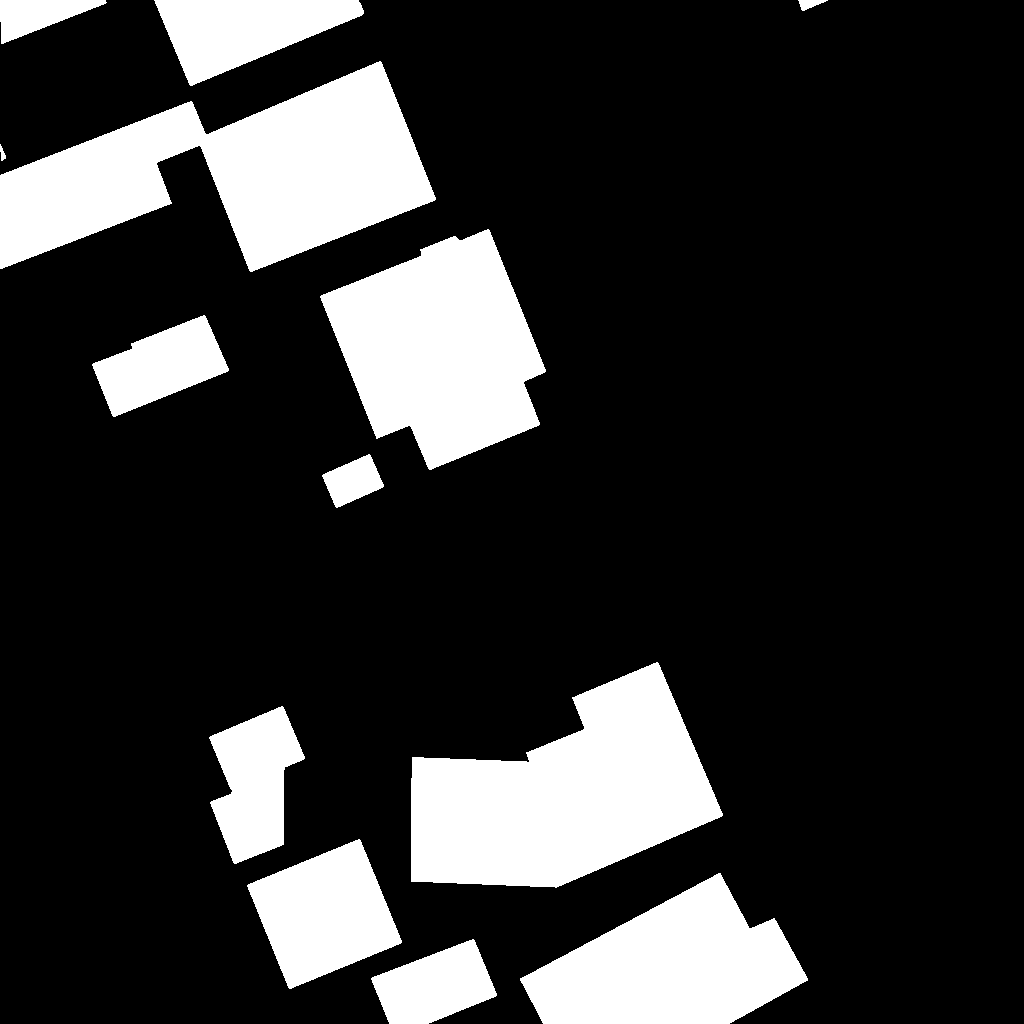building: (0, 61, 437, 273), (411, 662, 724, 888), (320, 229, 547, 471), (520, 873, 809, 1024), (247, 839, 403, 990), (154, 0, 365, 87), (92, 315, 230, 418), (371, 939, 498, 1024), (209, 706, 306, 791), (210, 772, 285, 865), (0, 0, 108, 45), (322, 454, 385, 509), (798, 0, 830, 12), (0, 143, 7, 162)
